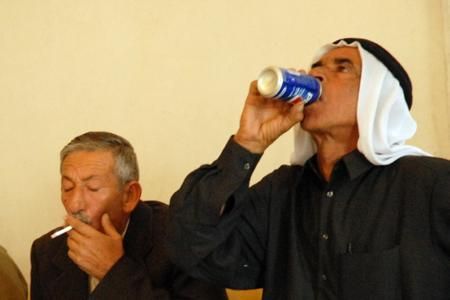person: (166, 37, 449, 300)
